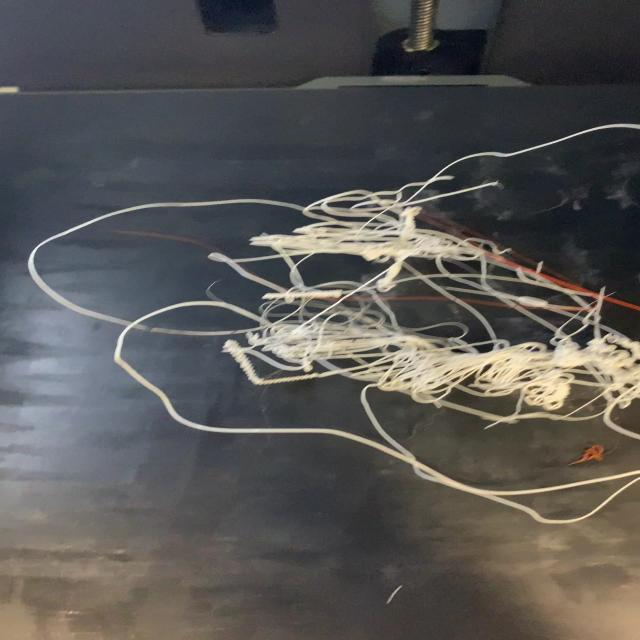spaghetti: (25, 122, 638, 525)
